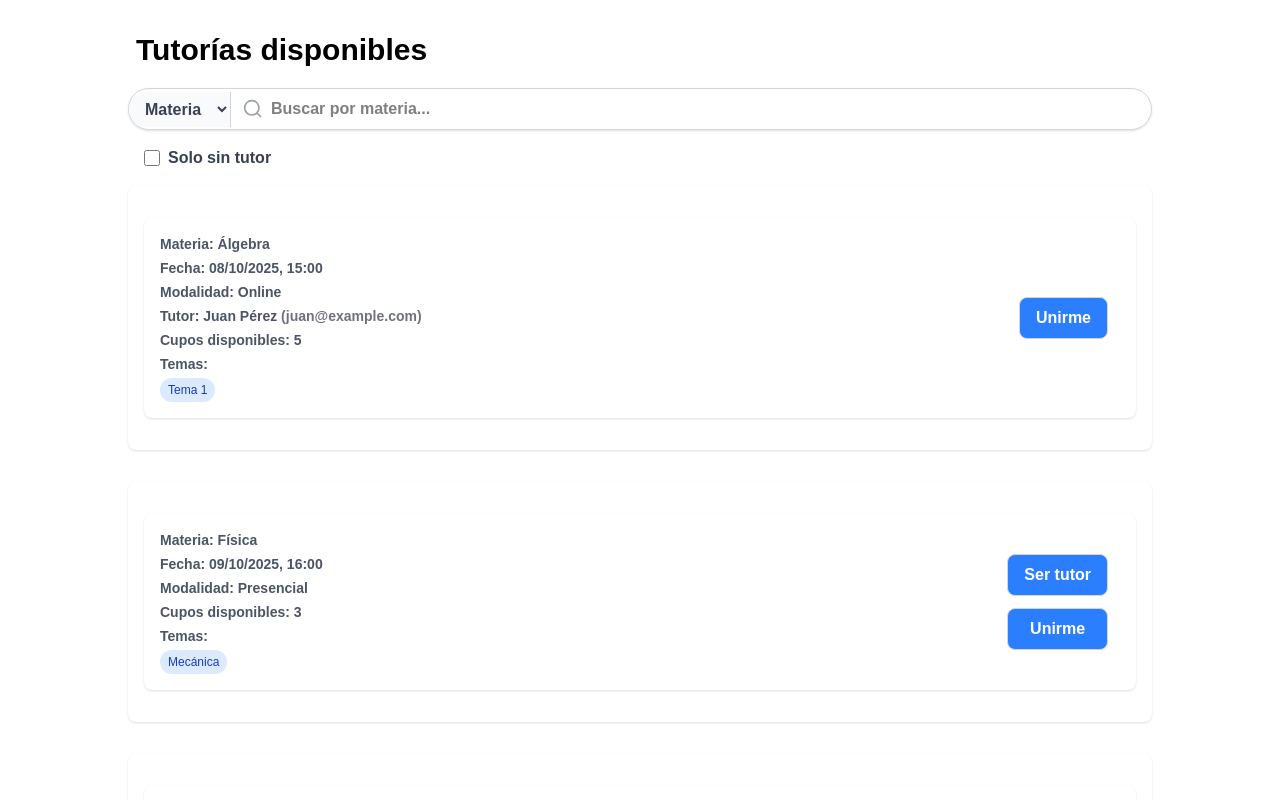
Scenario: TutoringPage - Filtros y búsqueda › no mezcla resultados entre materias y temas
The image size is (1280, 800).
Select "Tema" in the dropdown named "Buscar por": (180, 109) [129,92,231,126]
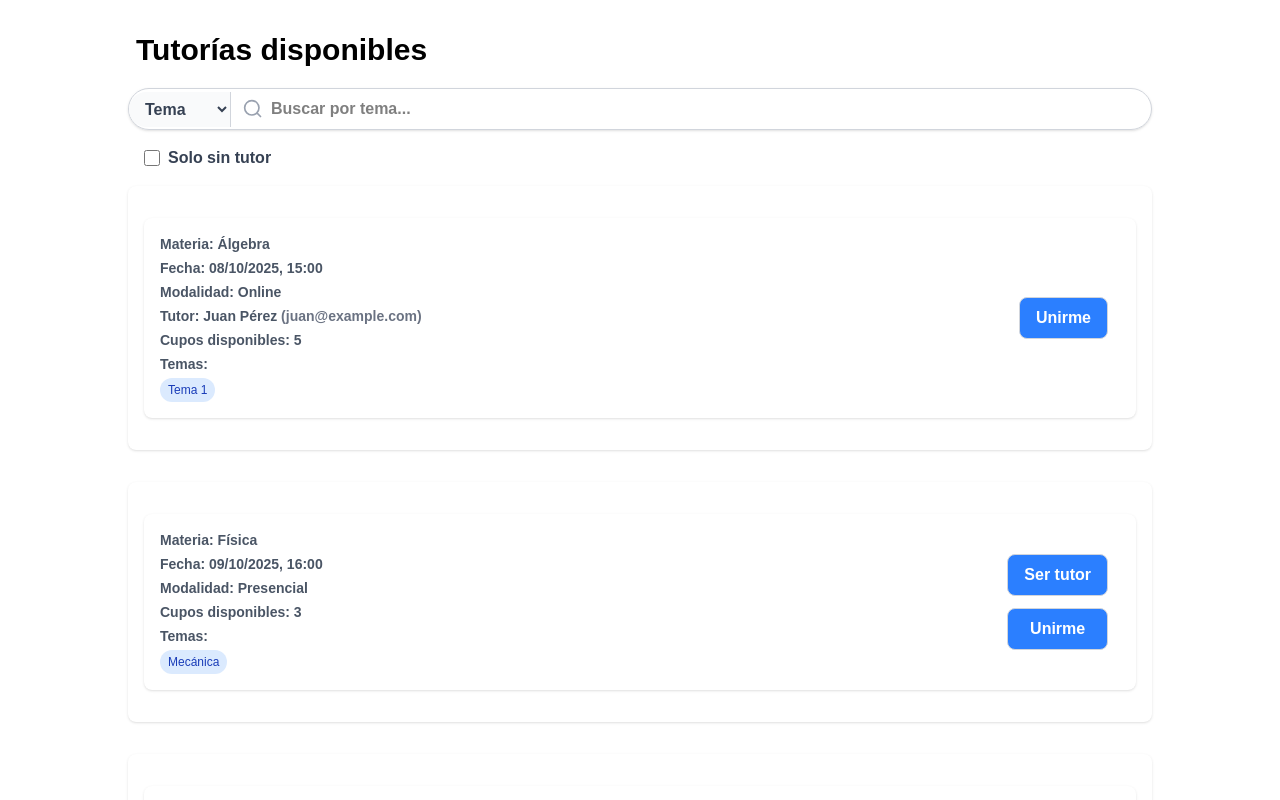
In the field with placeholder "Buscar por tema...": (691, 109) [231,89,1151,129], type "Química"
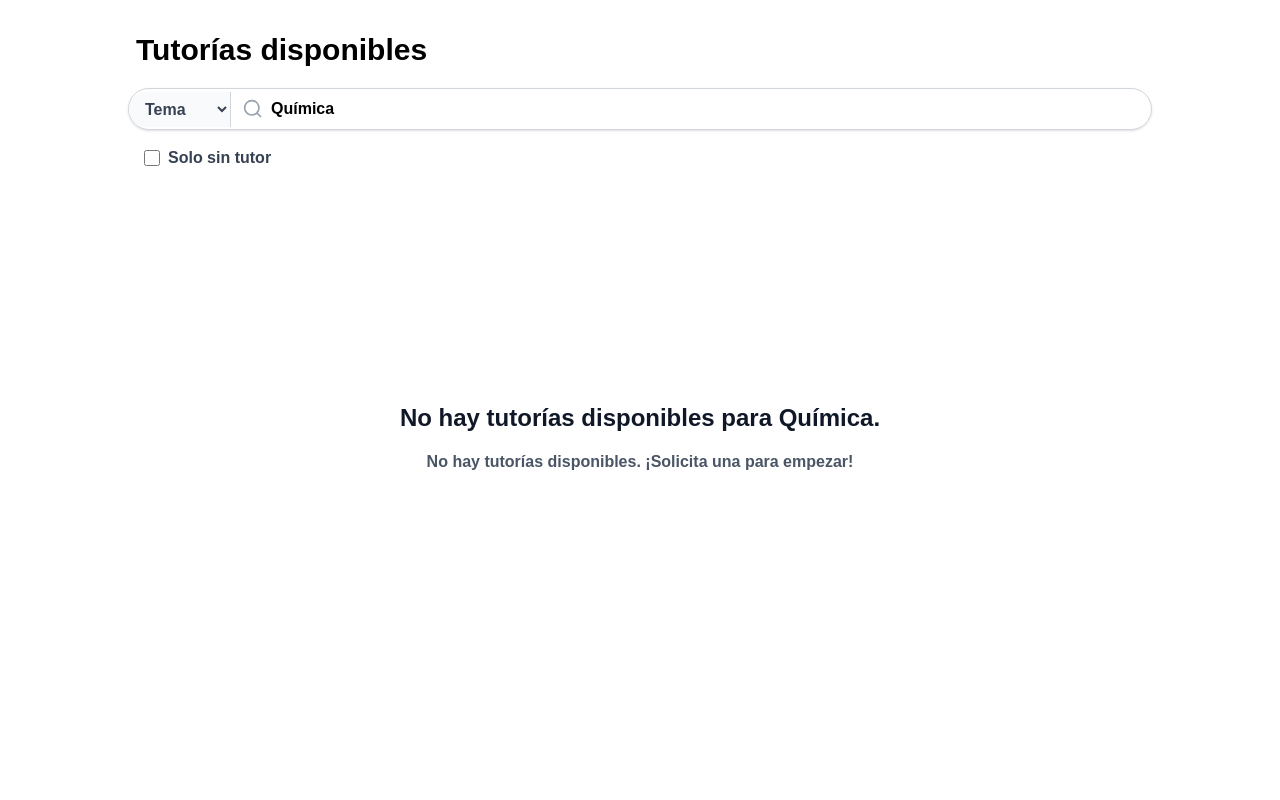
expect the heading "No hay tutorías disponibles para Química." is shown: met, box [400,402,880,434]
